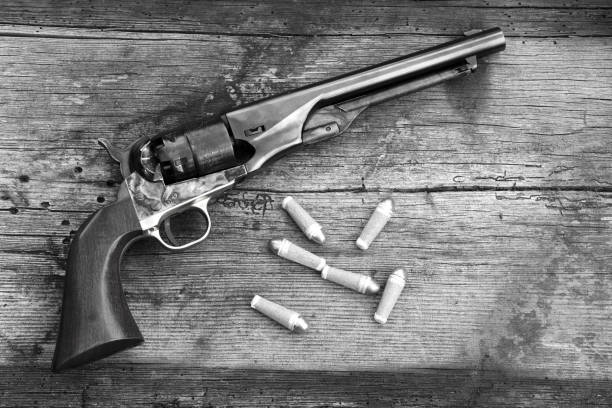gun: (48, 29, 507, 372)
